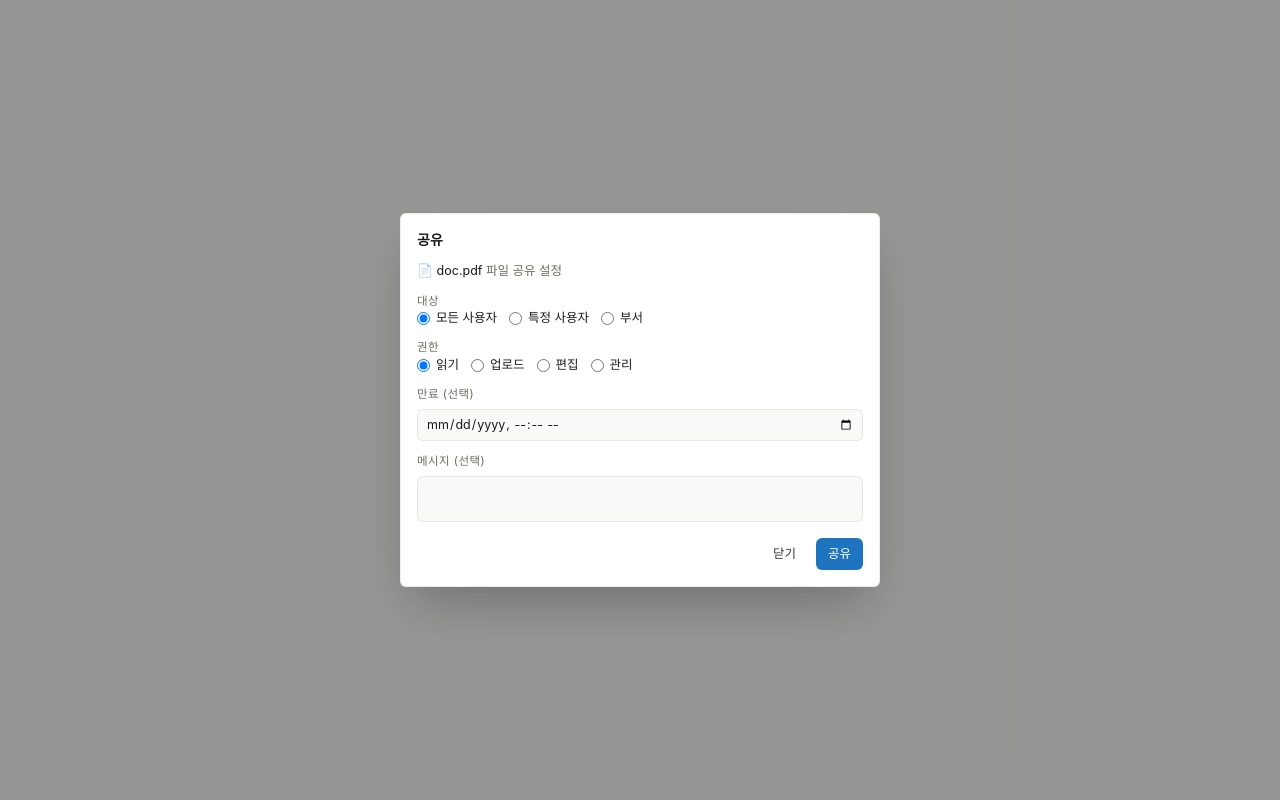
ShareDialog (F5.1 wire-aligned) › F6.4: user 라디오 클릭 → UserSearchCombobox 노출
Step 1. Click the radio button labelled "특정 사용자" → (516, 318), box [509,312,522,325]
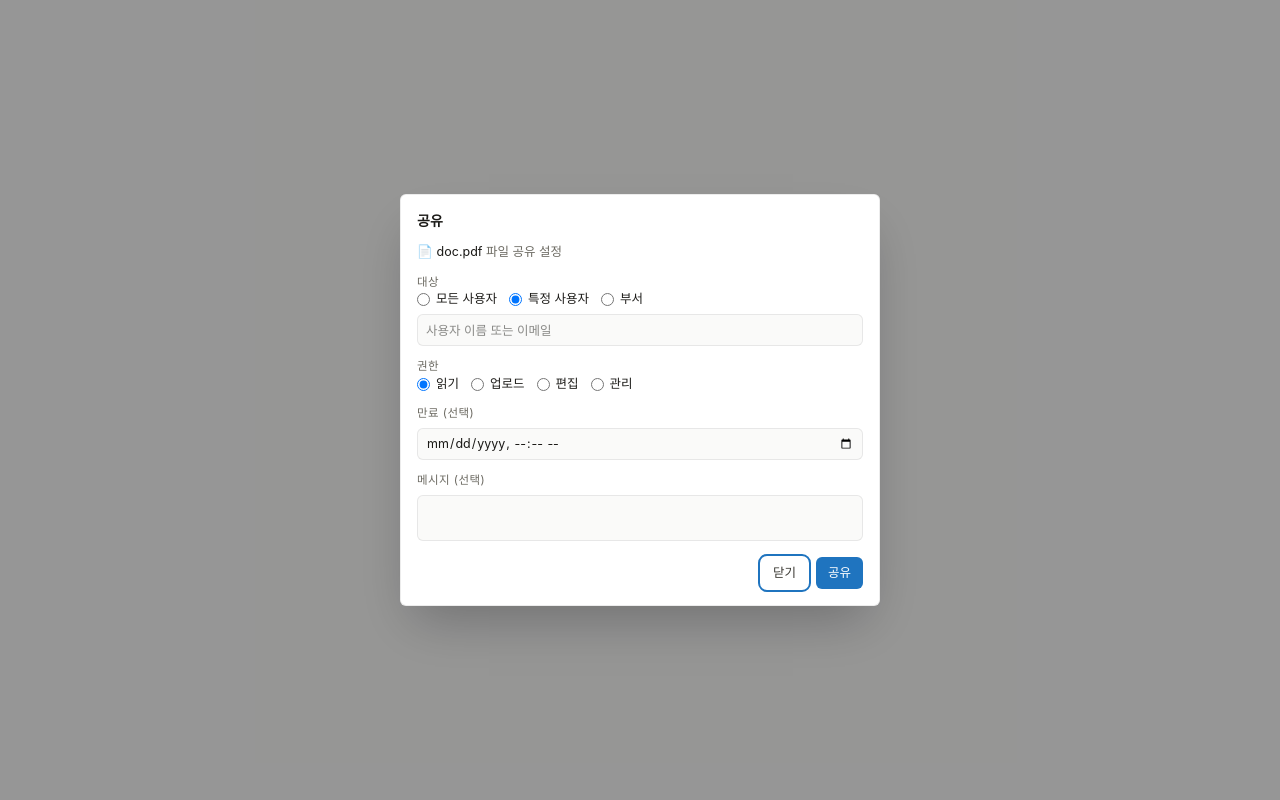
Check: the dropdown is shown, box [417,314,863,346]
